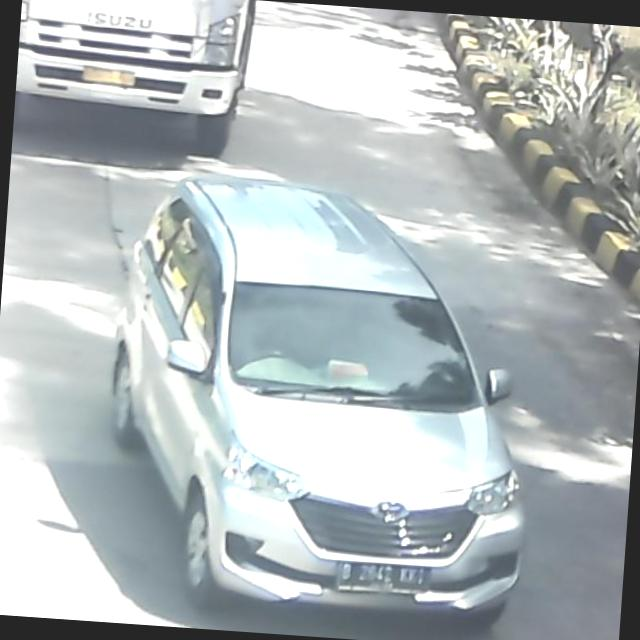plate: (329, 555, 439, 600)
